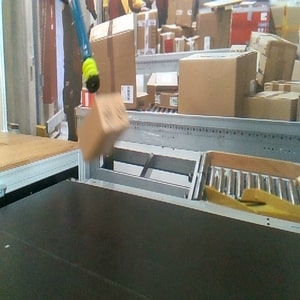box: (77, 91, 132, 164)
